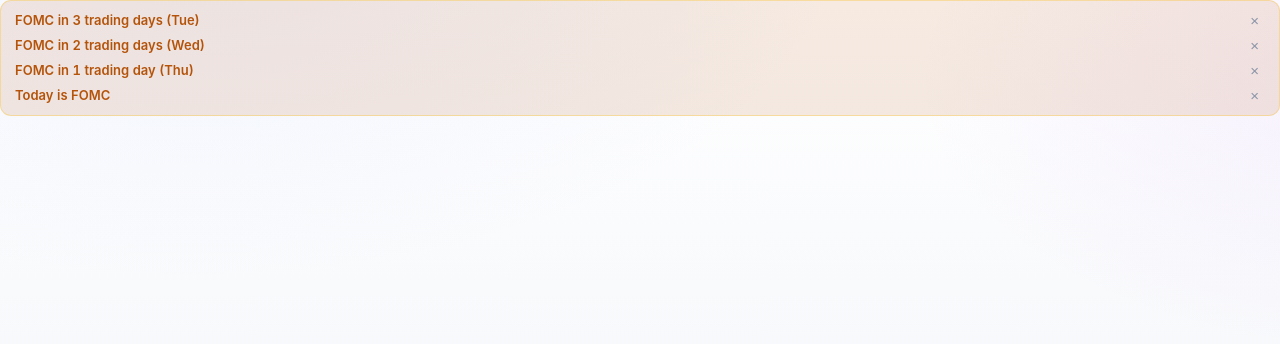
Test case: event proximity warning banner (CAL-11/UI-34) › dismissing the T-3 tier removes only that row; T-2/T-1/T-0 rows for the same event still render
Check: the element with test id "event-warning-banner" is shown, box [0,0,1279,116]
Click the button named "dismiss warning".
click(1255, 20)  # box [1244,11,1265,30]
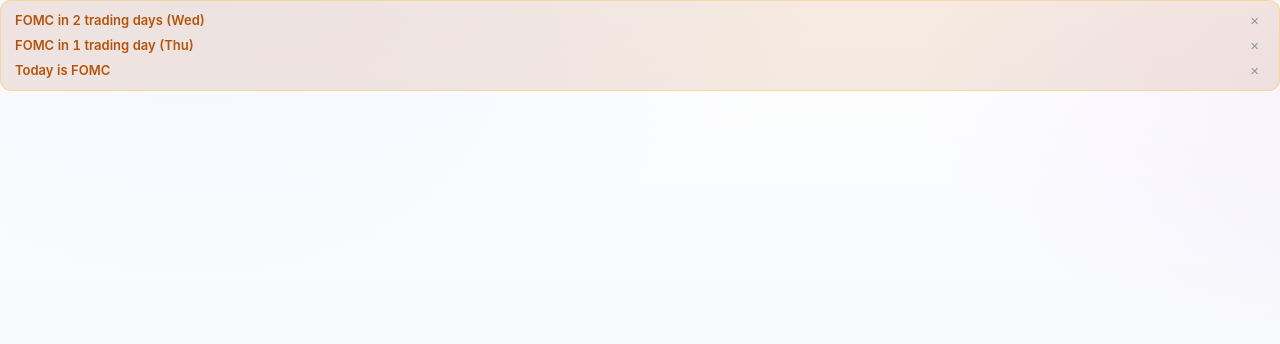
Check: the element with test id "event-warning-row-FOMC-2026-07-29-2" is shown, box [15,11,1265,30]
Check: the element with test id "event-warning-row-FOMC-2026-07-29-3" is gone
